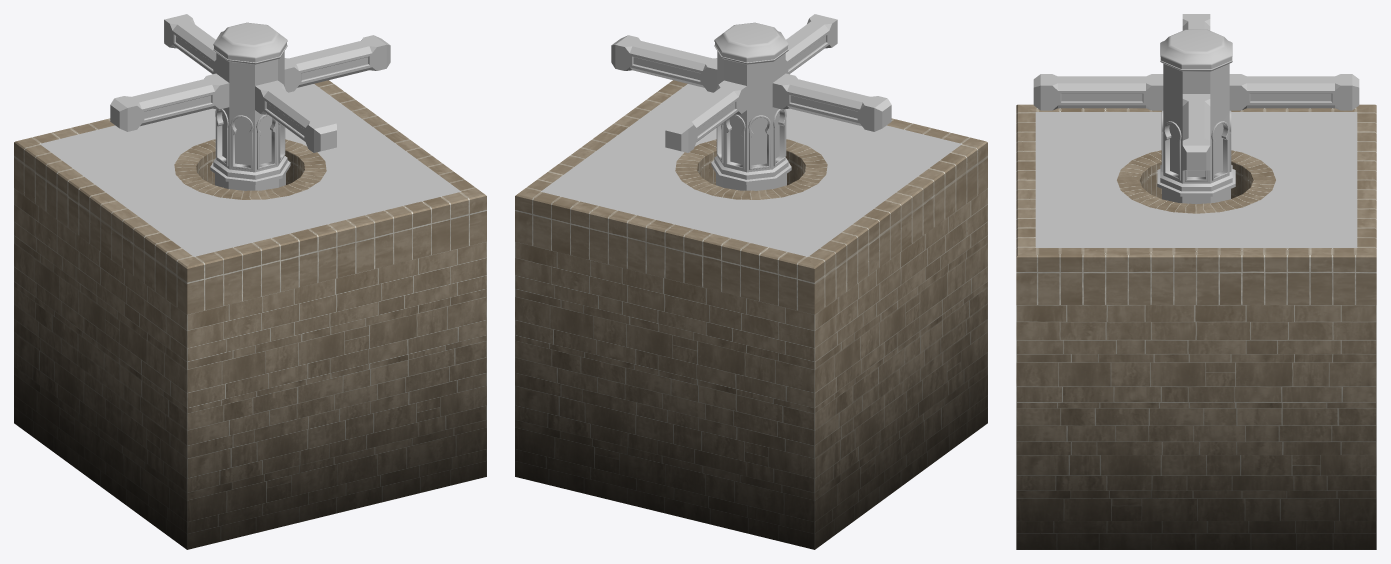
The model's file is PlatformHazard4Arm.fbx.
3 renders of one model, left to right at view 1: azimuth 30°, elevation 25°; view 2: azimuth 150°, elevation 25°; view 3: azimuth 270°, elevation 25°, orthographic. The views are drawn at different scales.
Visible parts, largest first — view 1: PlatformHazard4Arm_Floor, PlatformHazard4Arms; view 2: PlatformHazard4Arm_Floor, PlatformHazard4Arms; view 3: PlatformHazard4Arm_Floor, PlatformHazard4Arms.
Boxes of the visible parts, <box> form: PlatformHazard4Arm_Floor: <box>14,80,486,549</box>; PlatformHazard4Arms: <box>110,14,390,190</box>; PlatformHazard4Arm_Floor: <box>515,80,987,549</box>; PlatformHazard4Arms: <box>611,14,891,190</box>; PlatformHazard4Arm_Floor: <box>1016,104,1376,549</box>; PlatformHazard4Arms: <box>1033,14,1359,204</box>.
Bounding box in the file's own units: 500 × 664 × 500.
